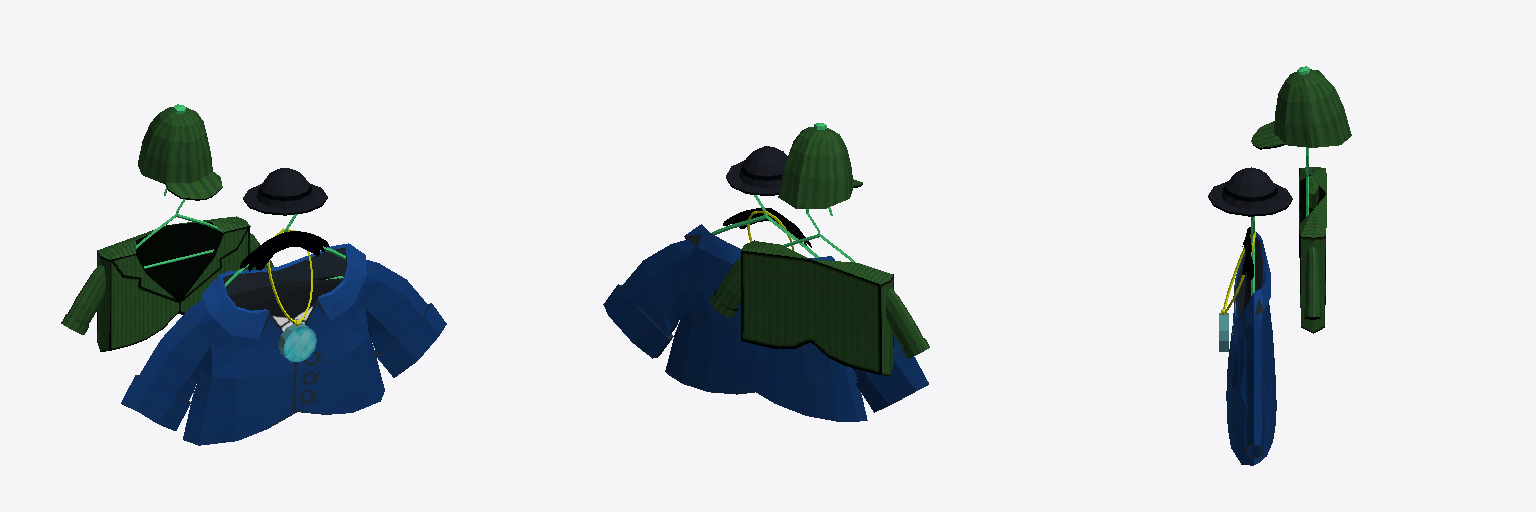
3 views of the same model, side by side, from view 1: azimuth 30°, elevation 25°; view 2: azimuth 150°, elevation 25°; view 3: azimuth 270°, elevation 25° (orthographic).
Visible parts, largest first — view 1: Object02_2, Object02_0, Object02_1; view 2: Object02_2, Object02_0, Object02_1; view 3: Object02_2, Object02_0.
Boxes of the visible parts, x1,y1,x2,y2 form: Object02_2: [121, 168, 446, 445]; Object02_0: [61, 107, 273, 351]; Object02_1: [136, 104, 345, 286]; Object02_2: [603, 146, 928, 421]; Object02_0: [710, 127, 929, 375]; Object02_1: [712, 123, 855, 262]; Object02_2: [1208, 167, 1292, 465]; Object02_0: [1251, 69, 1351, 333].
Bounding box in the file's own units: 182 × 153 × 63.57.
3 materials, 3 textured.